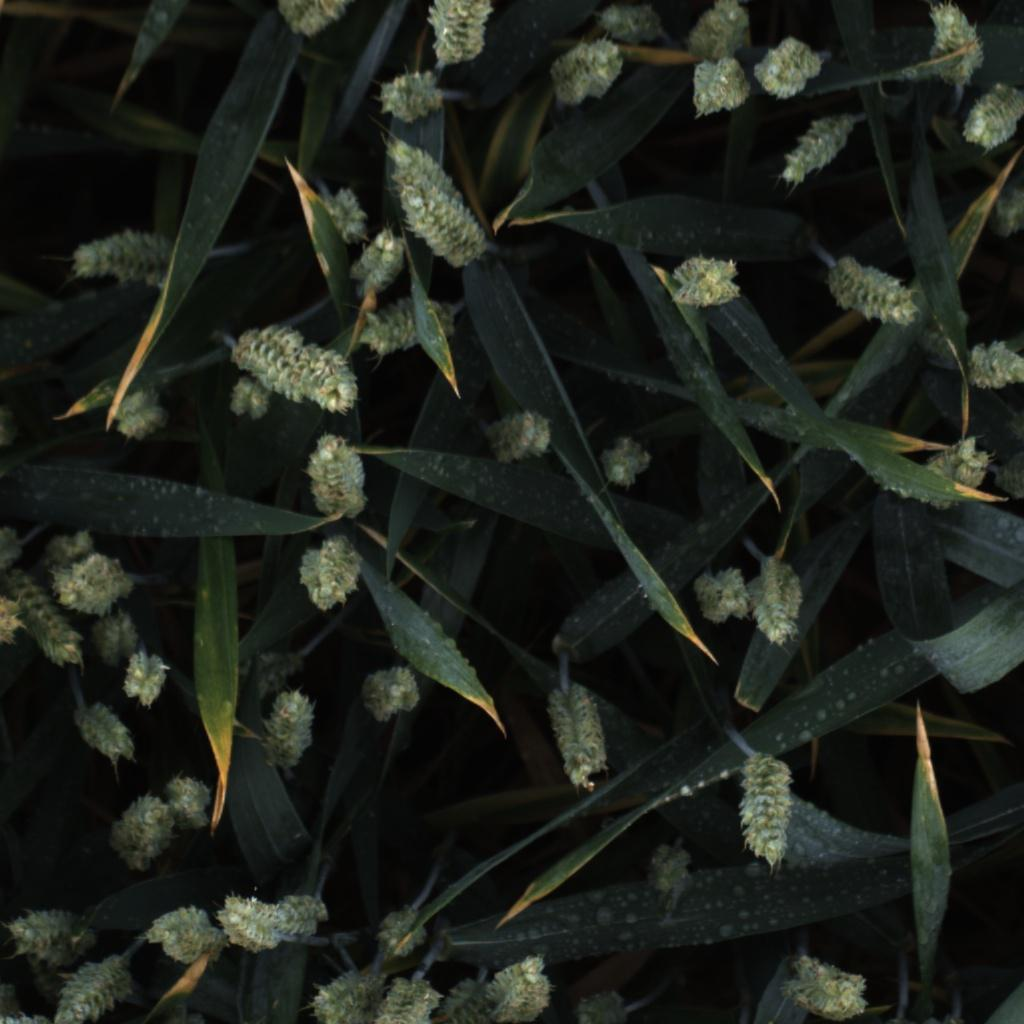0-0: (230, 325, 365, 408), (402, 176, 494, 270), (9, 572, 86, 679), (542, 676, 608, 794), (735, 745, 797, 870), (72, 219, 169, 296), (299, 431, 380, 519), (825, 255, 920, 327), (371, 132, 465, 204), (545, 39, 626, 116), (784, 951, 868, 1023), (753, 554, 813, 651), (362, 299, 460, 358), (257, 684, 322, 772), (50, 550, 138, 614), (776, 117, 853, 190), (298, 534, 365, 617), (9, 904, 100, 962), (426, 0, 500, 71), (661, 251, 749, 310), (54, 959, 133, 1024), (108, 791, 172, 871), (755, 31, 826, 103), (36, 516, 114, 580), (477, 399, 552, 464), (146, 899, 218, 966), (927, 0, 986, 81), (369, 64, 446, 126), (487, 952, 553, 1024), (356, 659, 425, 727), (678, 0, 755, 59), (687, 559, 750, 631), (688, 57, 752, 127), (348, 227, 406, 303), (75, 708, 141, 773), (961, 86, 1024, 154), (309, 963, 376, 1024), (216, 894, 284, 953), (276, 0, 367, 41), (116, 378, 172, 444), (924, 430, 991, 484), (591, 431, 653, 487), (593, 0, 667, 46), (165, 768, 215, 836), (639, 846, 698, 903), (119, 654, 179, 709), (321, 182, 374, 244), (237, 641, 302, 689), (373, 978, 440, 1024), (375, 903, 430, 959), (963, 337, 1024, 387), (274, 885, 330, 937), (92, 612, 144, 667), (441, 967, 488, 1024), (981, 184, 1024, 242), (224, 372, 270, 422), (572, 988, 633, 1024)
